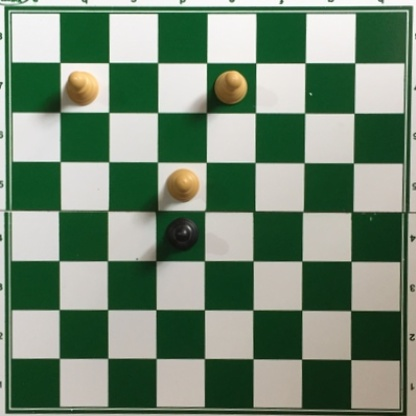black-pawn: (162, 216, 200, 253)
white-pawn: (213, 68, 248, 107), (63, 69, 98, 105), (164, 167, 199, 203)
